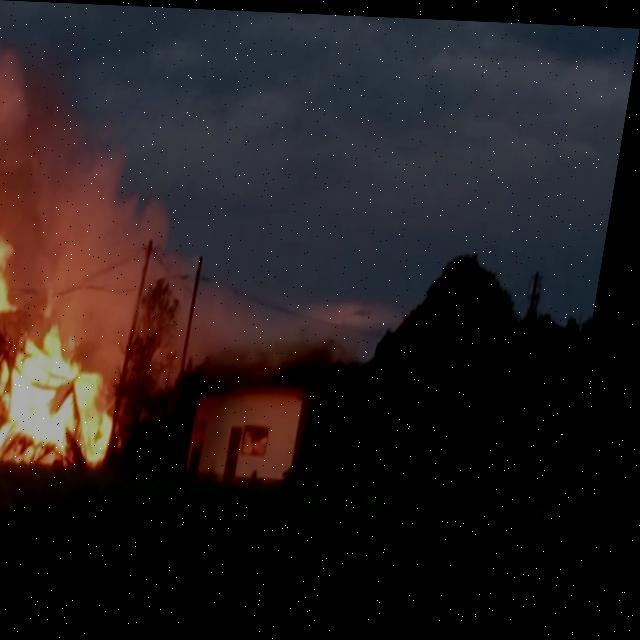Fire: (0, 213, 151, 461)
